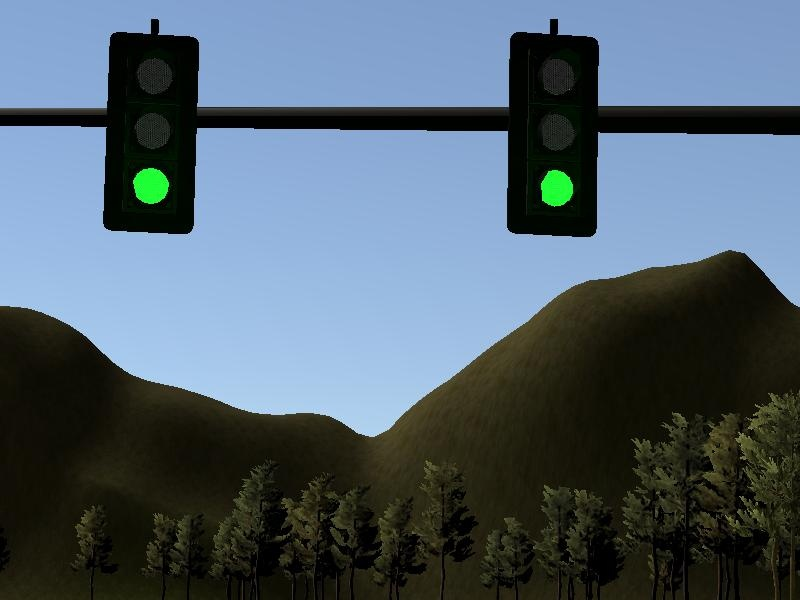traffic_light_green: (1, 17, 800, 240)
